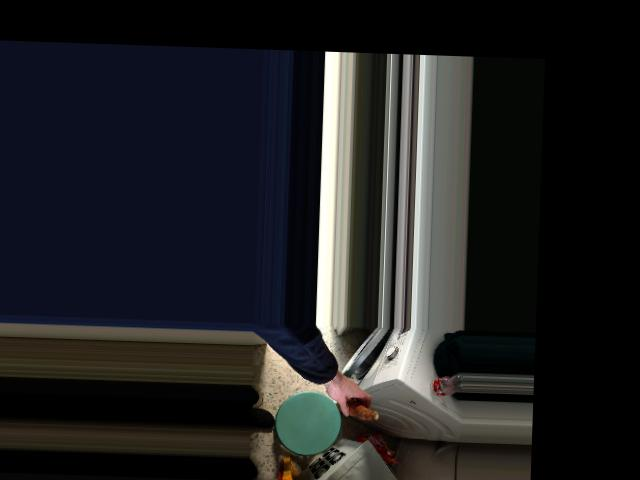sweet_potato: (325, 389, 378, 420)
